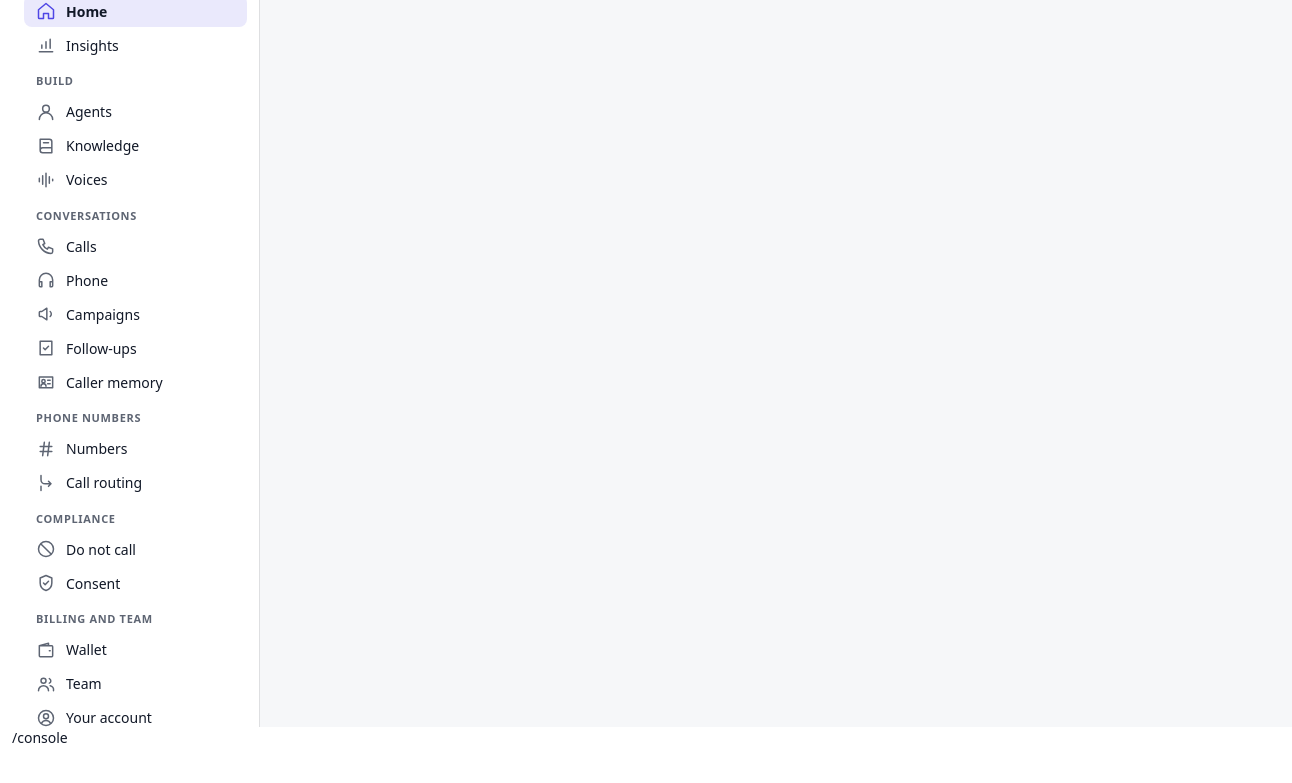
Test case: the agents list › lists the account's agents and builds a new one, then opens its page
Click the link "Agents".
click(74, 112)  # box [36,102,112,122]
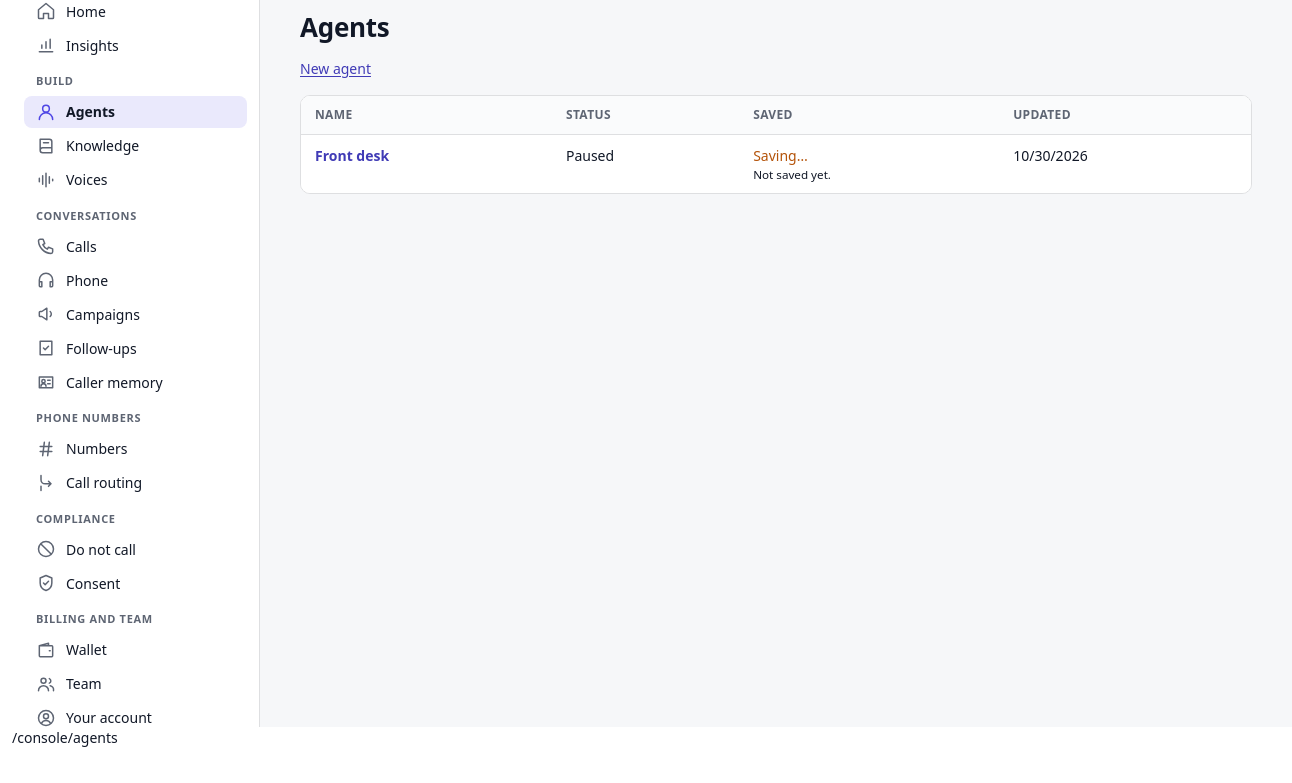
expect the text "Paused" is shown: met, box [552,134,739,193]
expect the text "Saving…" is shown: met, box [753,146,808,164]
expect the text "Not saved yet." is shown: met, box [753,166,831,182]
Click the link "New agent".
click(336, 68)  # box [300,58,371,78]
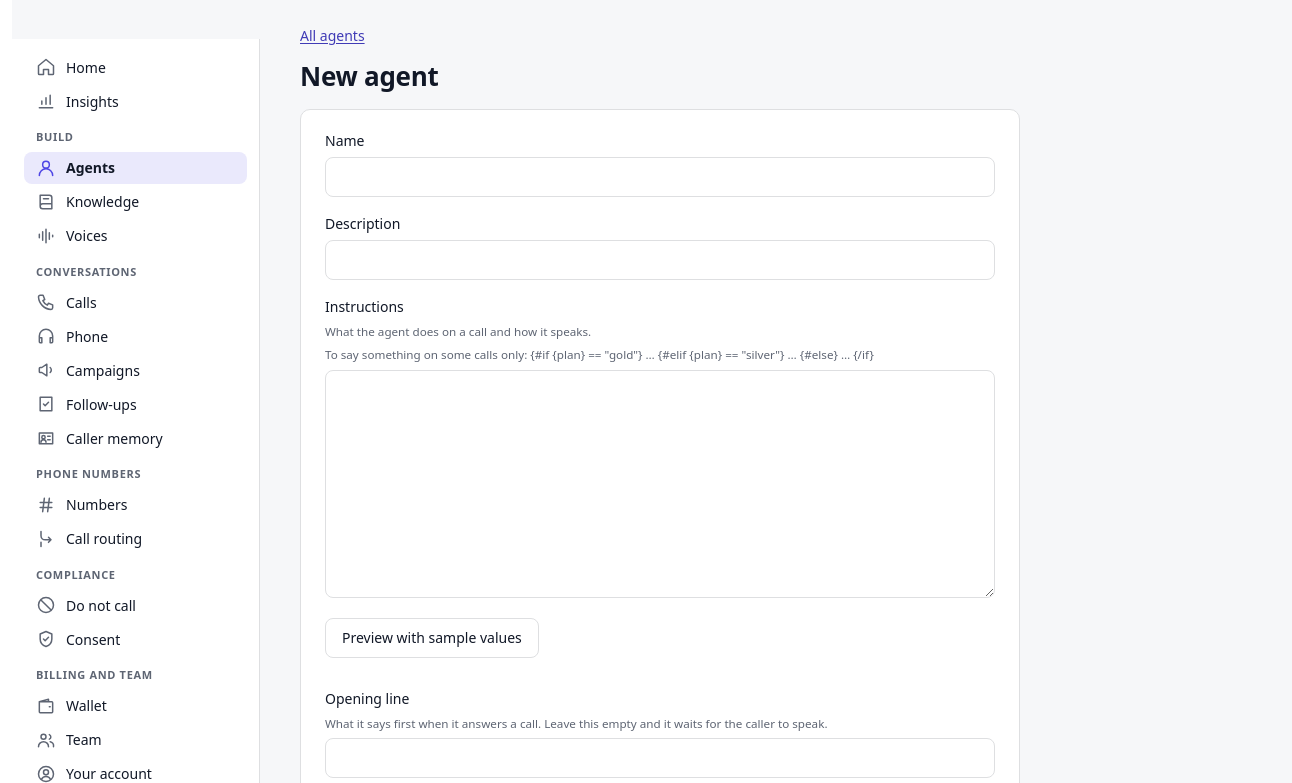
expect the heading "New agent" is shown: met, box [300,58,439,94]
Type "Night desk" into the field labelled "Name".
click(660, 176); type("Night desk")  # box [325,156,995,196]
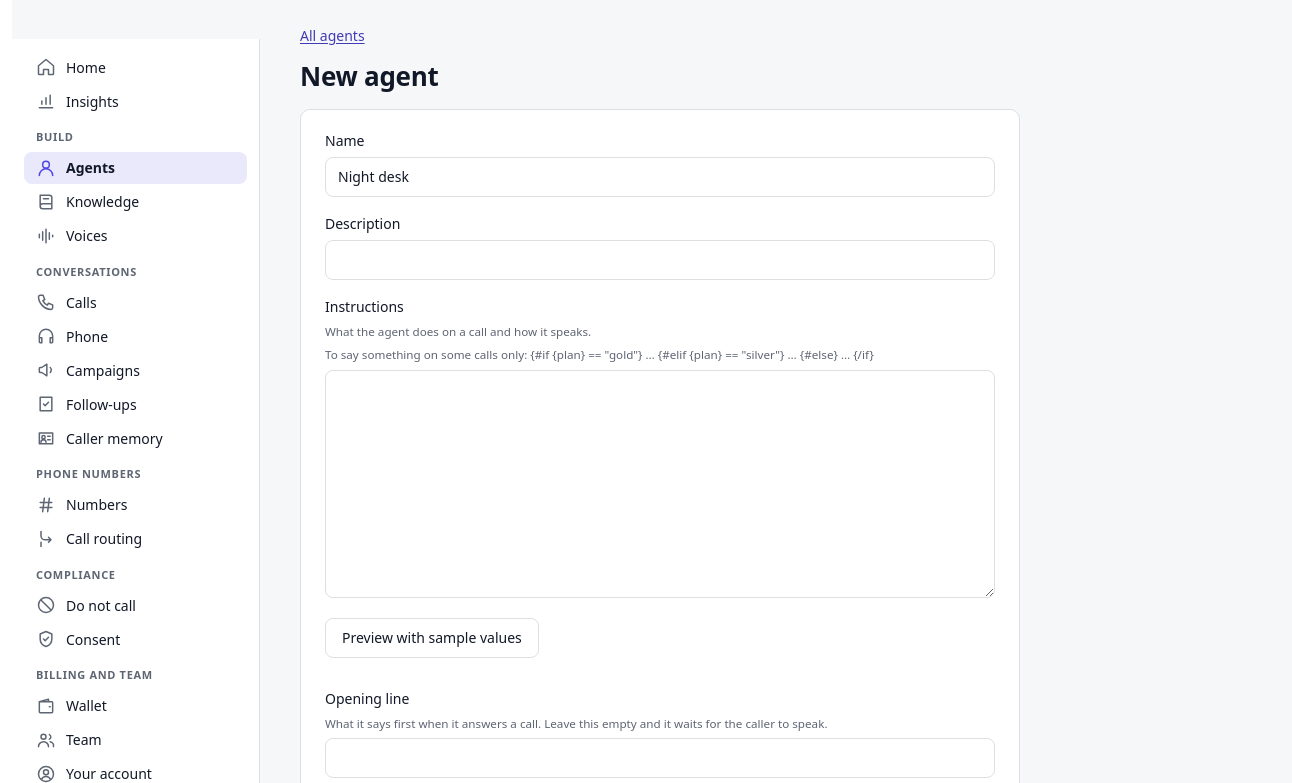
Type "You answer at night." into the text box labelled "Instructions".
click(660, 484); type("You answer at night.")  # box [325,370,995,598]
(page scrolled)
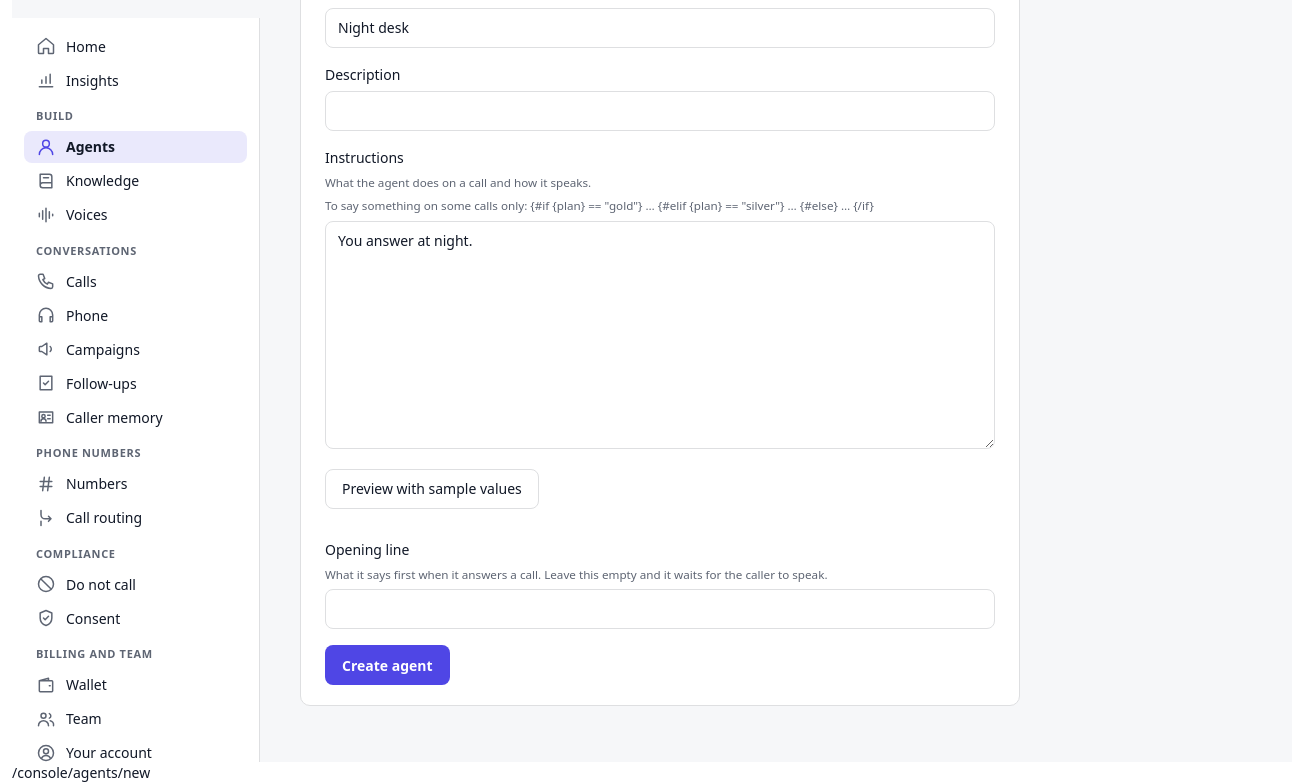
Click the button "Create agent".
click(387, 665)  # box [325,645,450,685]
(page scrolled)
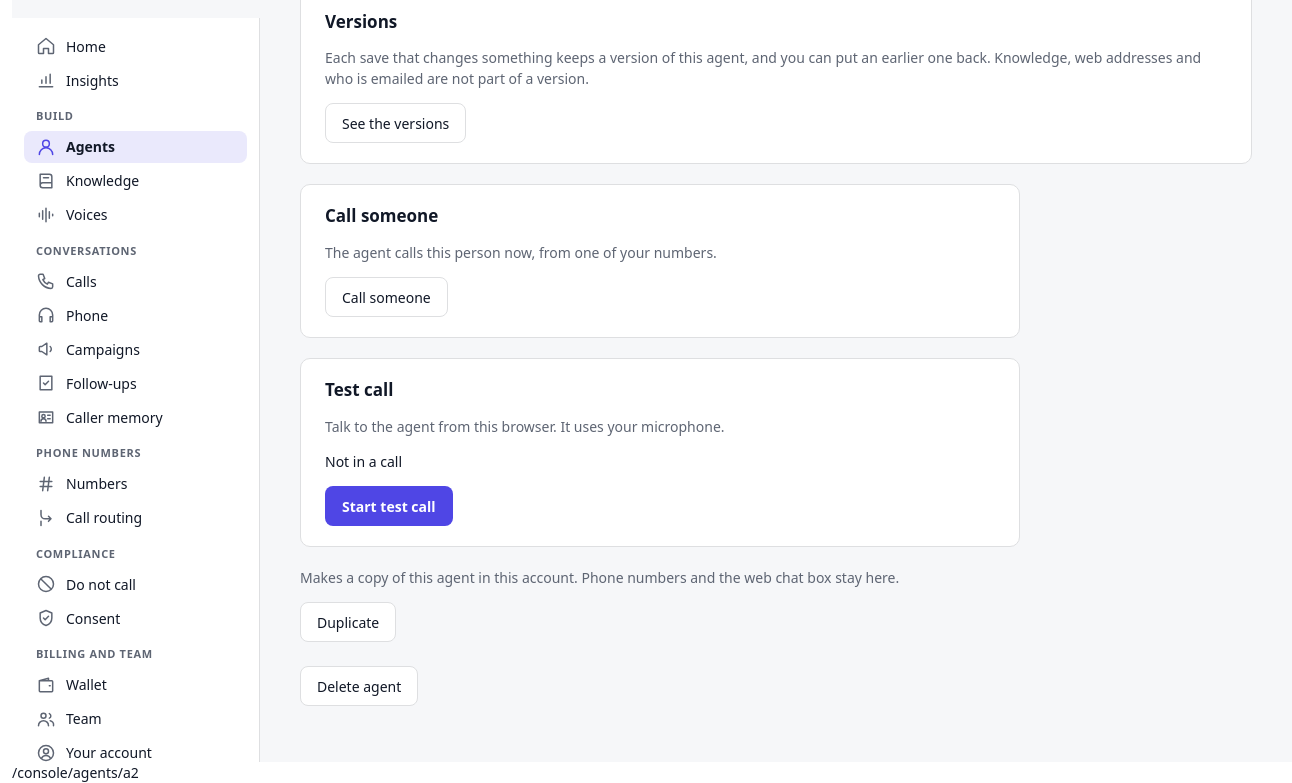
expect the text with test id "where" reads "/console/agents/a2": met, box [12,763,139,782]
